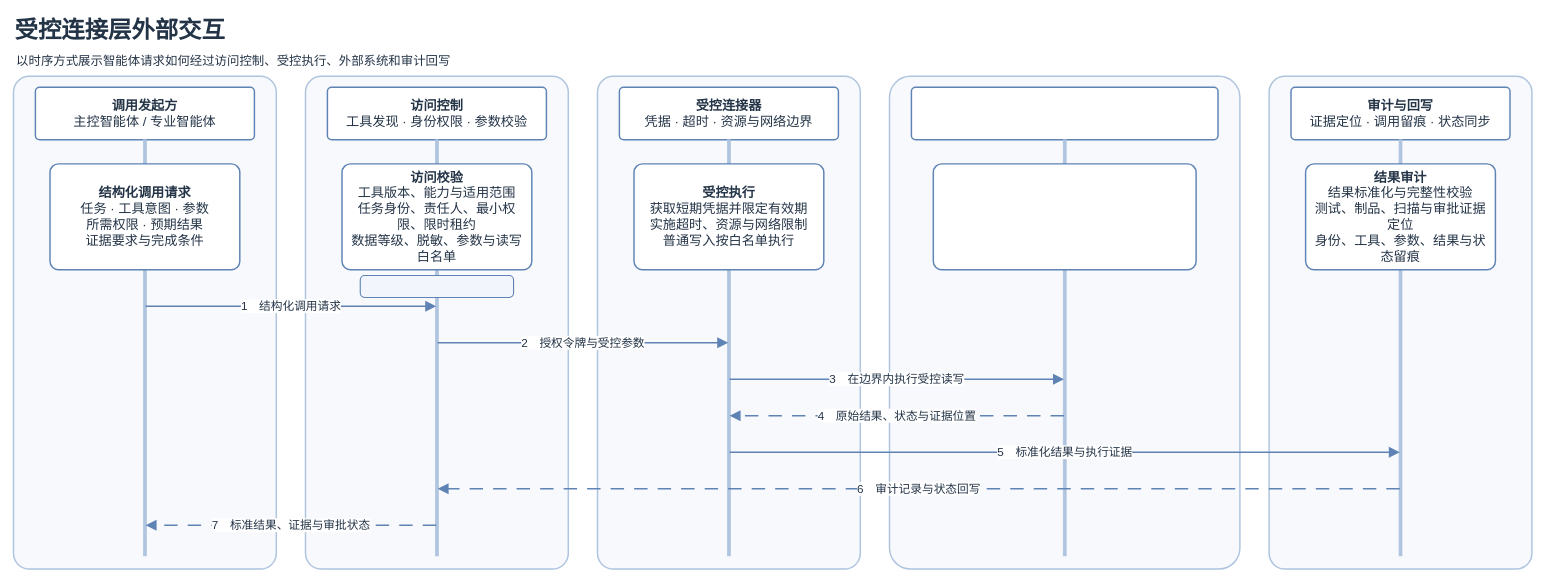
This 1559x582 diagram has some shape labels left out. The shapes that lost their labels are listed below. From the top down, each one's box as (x1, y1, x2, y2) in pixels, then its label:
(910, 86, 1218, 140): 外部研发系统 项目、代码、构建、质量、发布、运维
(932, 163, 1196, 270): 六类研发系统端口 项目与知识 ｜ 代码仓库 构建与测试 ｜ 质量与安全 发布与制品 ｜ 运维与观测
(359, 275, 514, 298): 高风险写入｜人工审批
